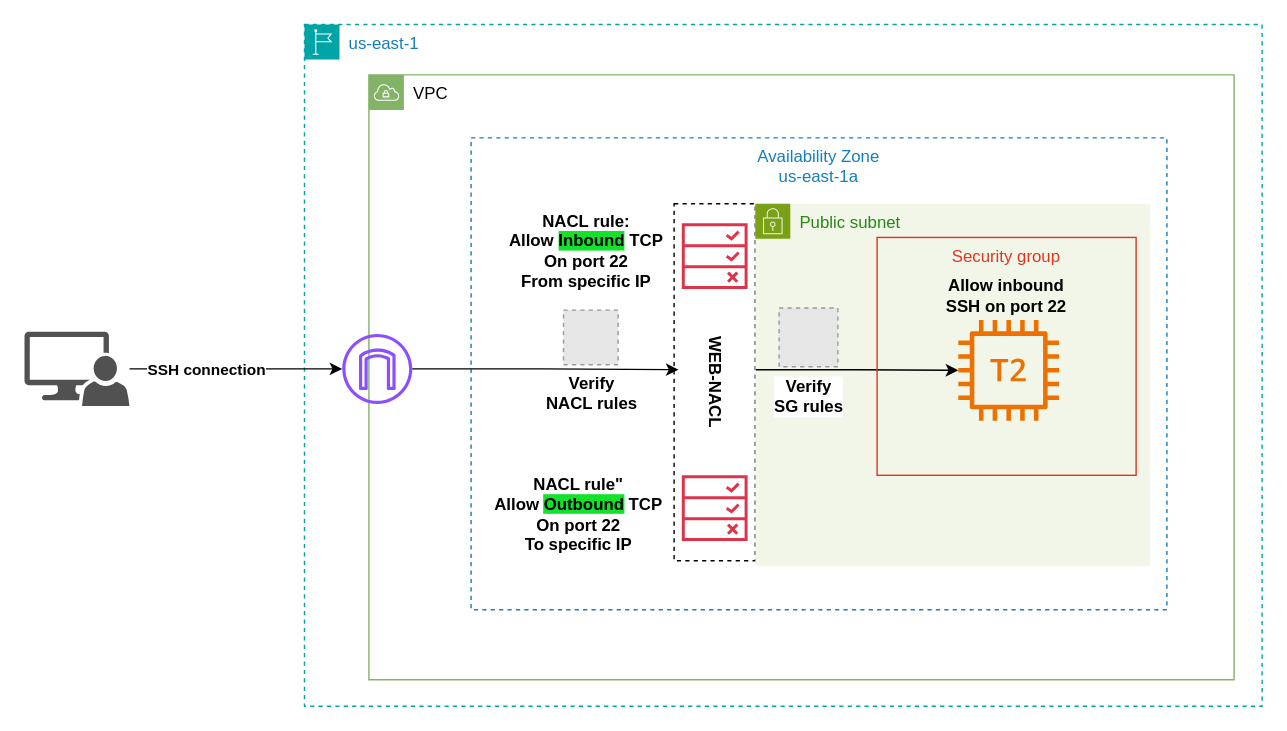
The diagram is 1287 pixels wide and 731 high, and some of its shapes have lost their labels. Grey dashed boxes stand in for pictures. Here are the shapes that lost their labels. From the top down, the centre of each, then its label:
the point at 377,368: Internet Gateway
the point at 1008,369: Web instance
